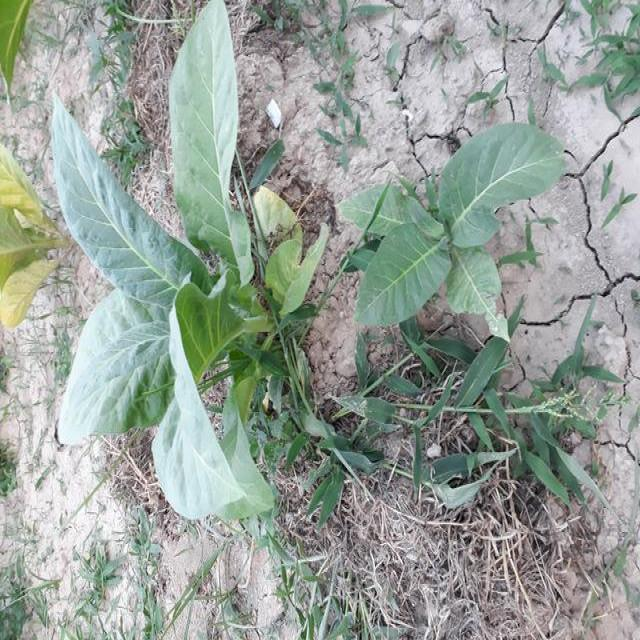crop: (32, 1, 335, 524)
